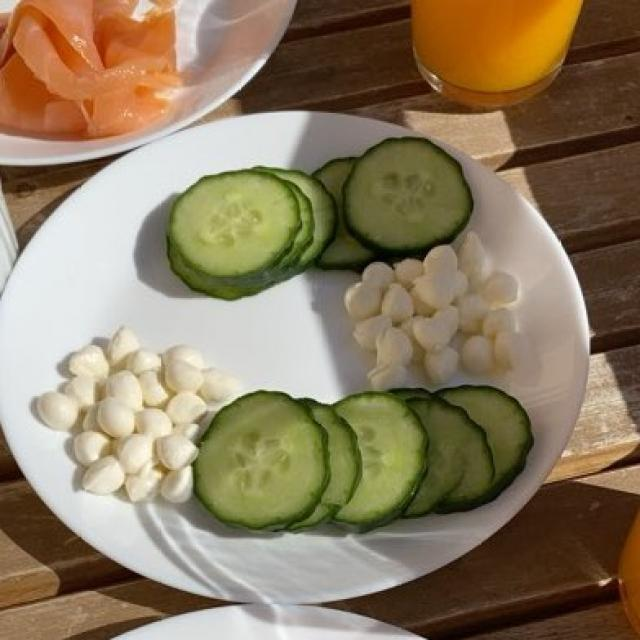cheese: (47, 217, 534, 511)
cucumber: (153, 140, 545, 533)
